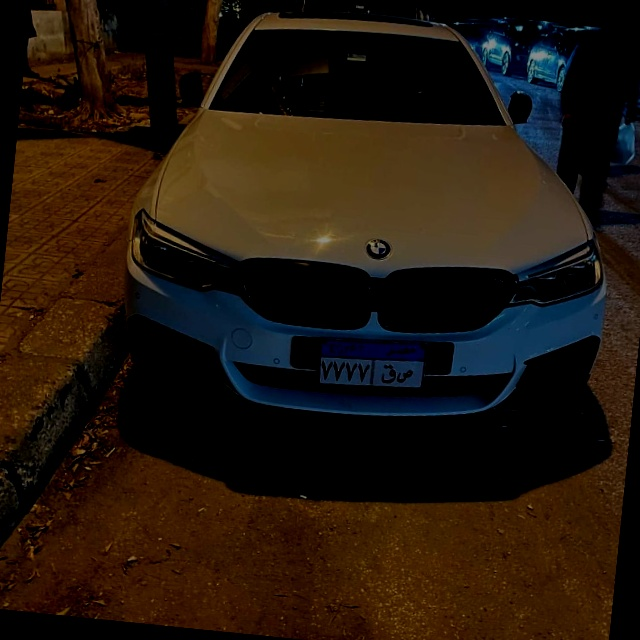License Plate: (315, 330, 428, 398)
